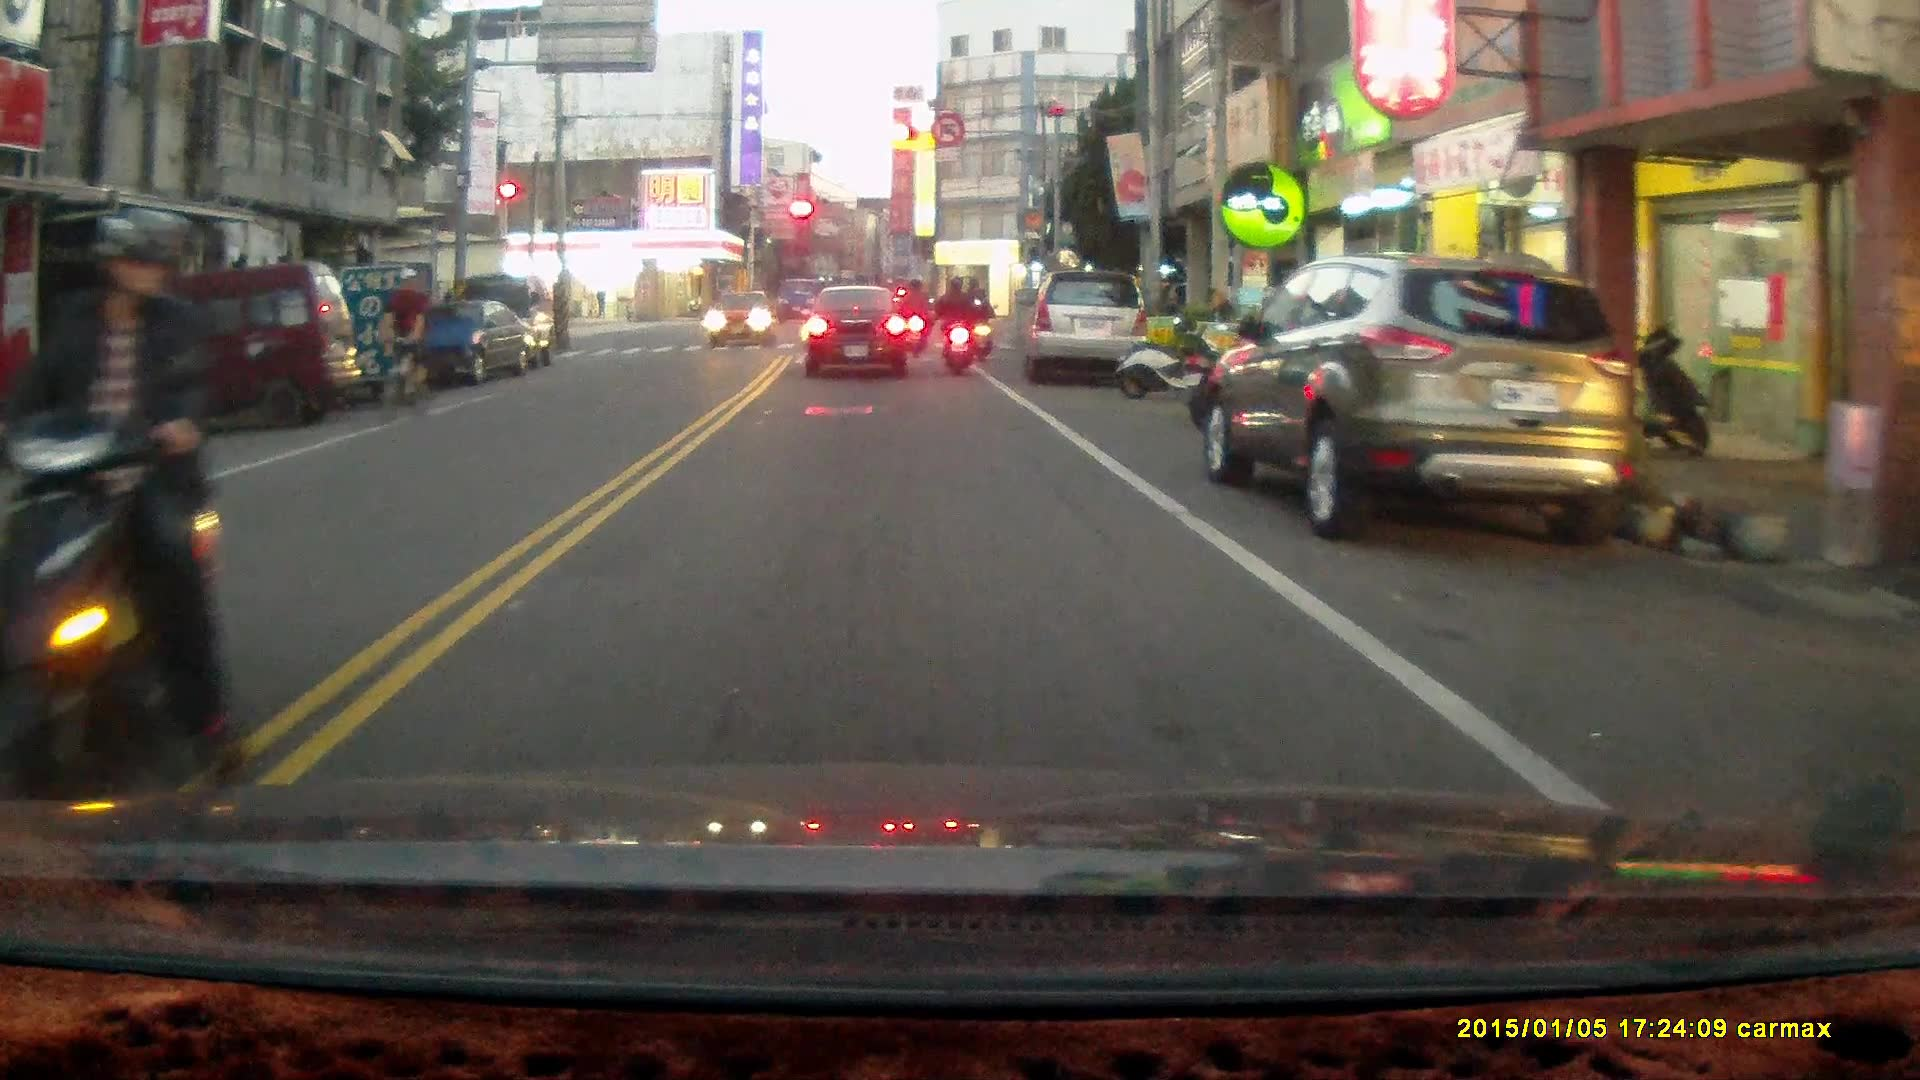rider: (0, 203, 239, 829), (376, 269, 432, 424), (930, 271, 978, 377), (895, 273, 930, 357), (963, 283, 993, 362)
vehicle: (1201, 254, 1629, 550), (95, 262, 366, 434), (1025, 270, 1153, 387), (408, 297, 529, 387), (806, 282, 913, 377), (704, 288, 775, 348)
